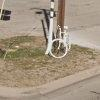Bicycle: (29, 1, 77, 65)
